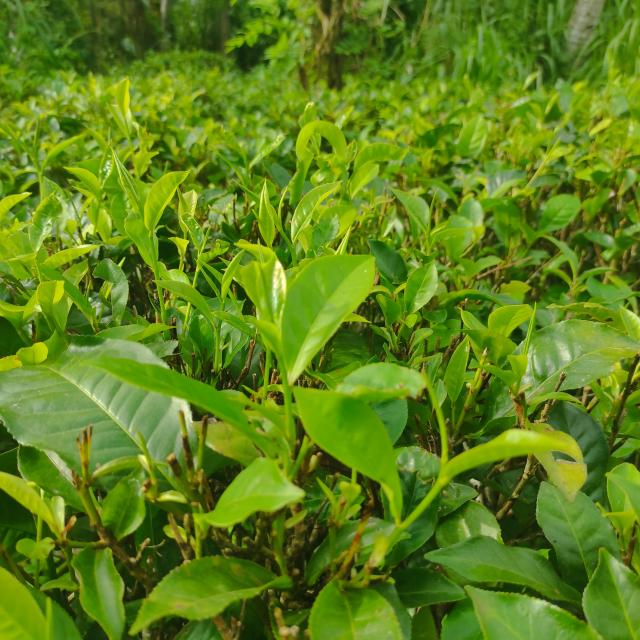unopened_leaf: (418, 362, 454, 480), (520, 297, 542, 355), (423, 184, 445, 232), (273, 182, 292, 230), (195, 220, 217, 254), (252, 232, 270, 263)
